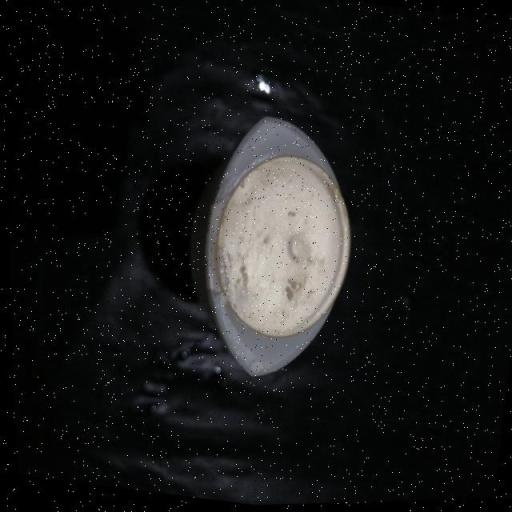plastic: (149, 66, 395, 425)
